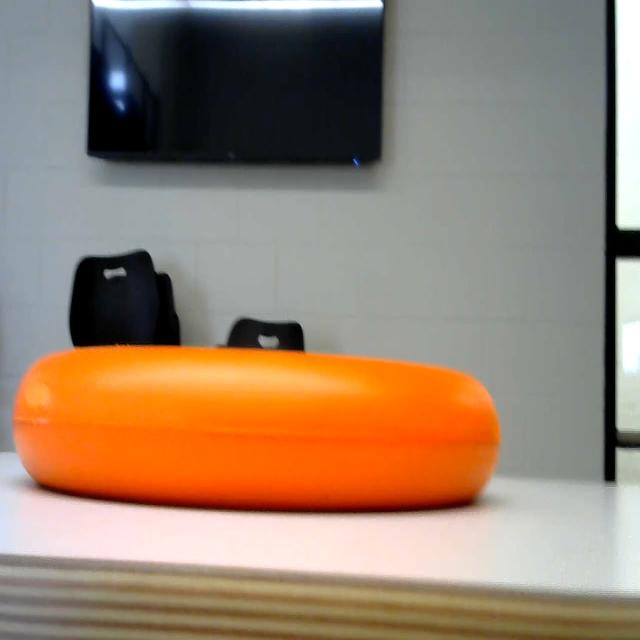note: (13, 344, 519, 539)
